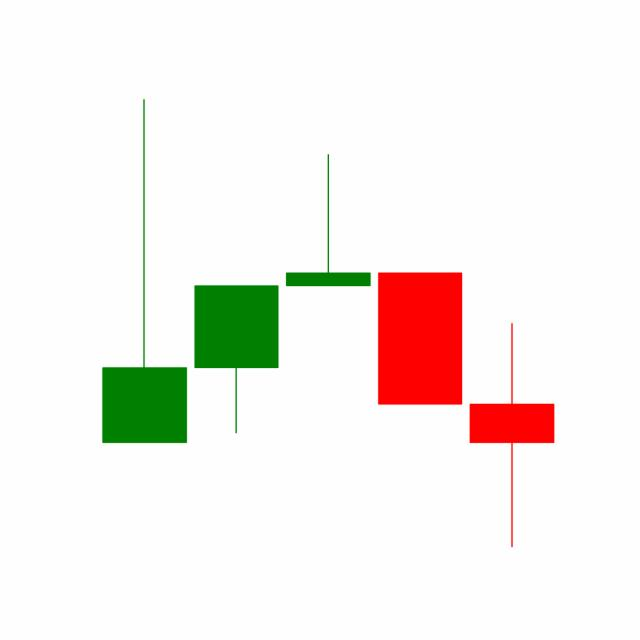Marubozu: (373, 270, 467, 405)
